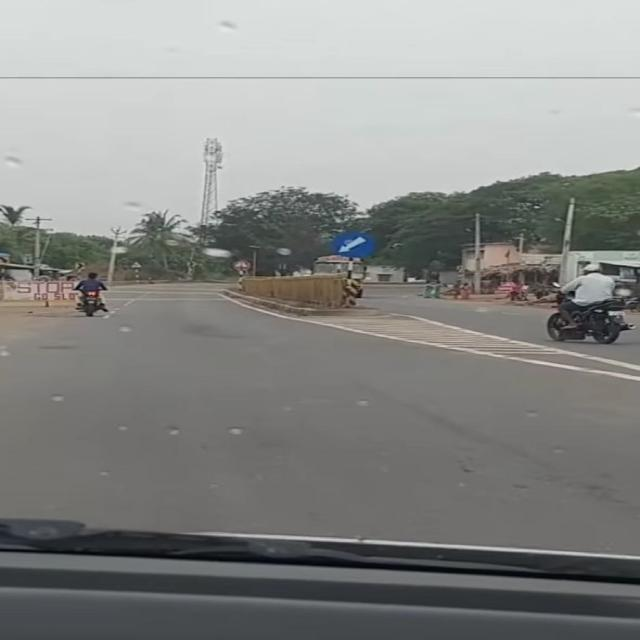compulsary keep left: (333, 226, 375, 261)
